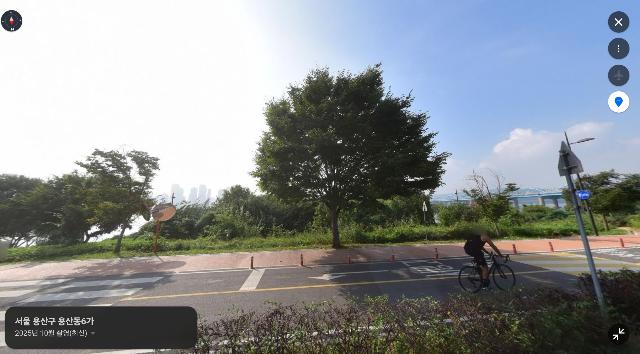other: (248, 60, 453, 250), (72, 146, 162, 255), (0, 173, 86, 250), (569, 168, 640, 233), (463, 166, 521, 238)
